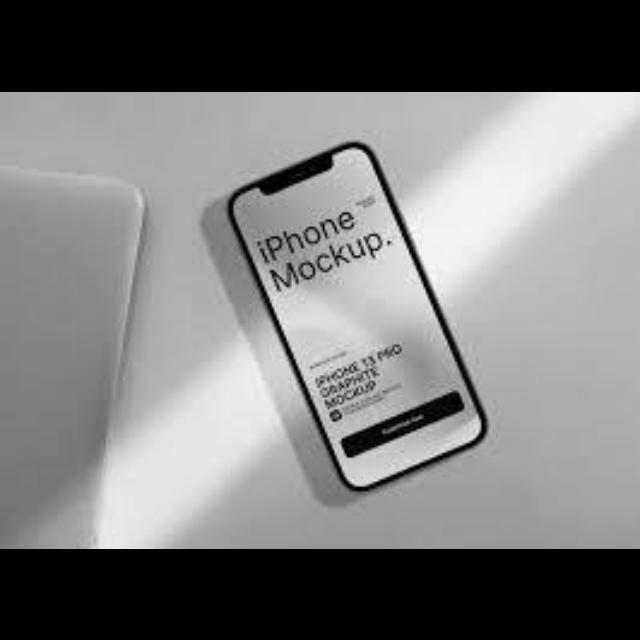fake: (230, 136, 486, 494)
